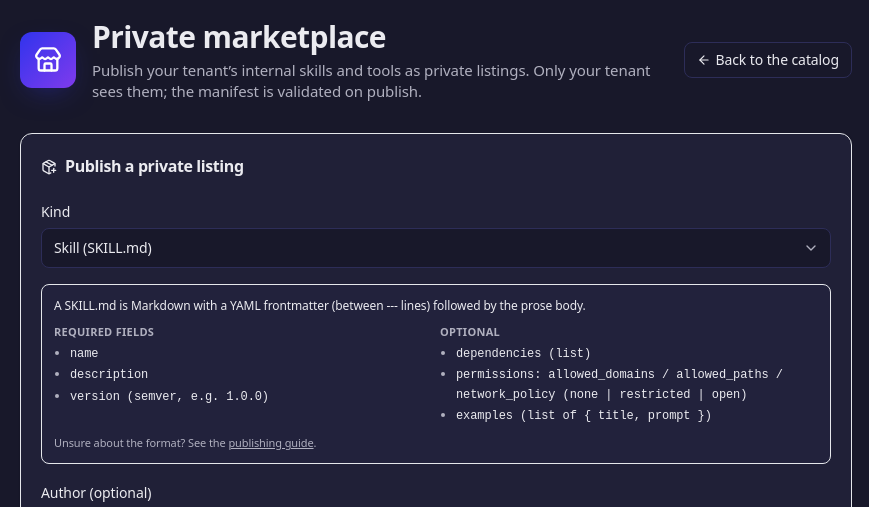
Test: marketplace privado en los dos idiomas › cambia la ayuda de formato al cambiar de tipo, y en inglés
Expected: the heading "Private marketplace" is shown, 92,16 -> 386,57
Select "Tool (YAML manifest)" in the dropdown with test id "private-kind-select" at [436, 248], box 41,228 -> 831,268
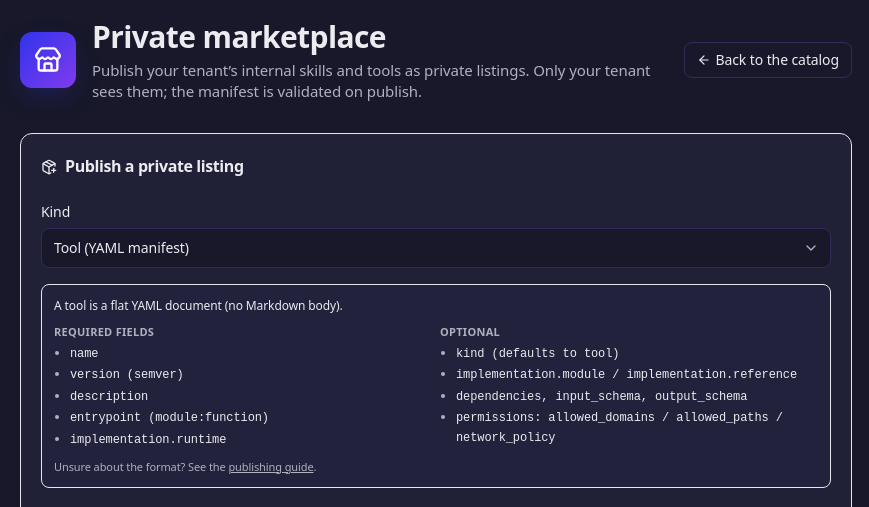
Expected: the text with test id "private-format-help-summary" reads "A tool is a flat YAML document (no Markdown body).", 54,297 -> 343,314
Expected: the text "entrypoint (module:function)" is shown, 70,411 -> 269,425
